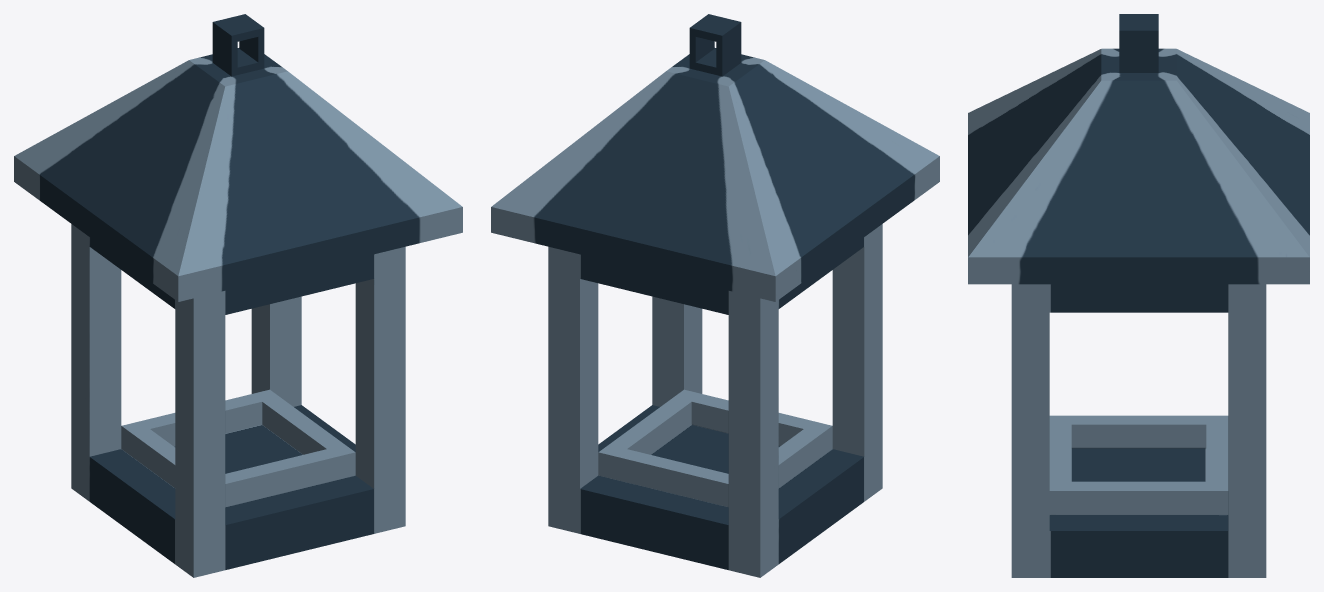
The model's file is lantern.fbx.
3 renders of one model, left to right at view 1: azimuth 30°, elevation 25°; view 2: azimuth 150°, elevation 25°; view 3: azimuth 270°, elevation 25°, orthographic. The views are drawn at different scales.
Visible parts, largest first — view 1: lantern1; view 2: lantern1; view 3: lantern1.
Boxes of the visible parts, box(x1,y1,x2,y2) form: lantern1: box(14, 14, 462, 577); lantern1: box(491, 14, 939, 577); lantern1: box(968, 14, 1309, 577).
Size of the model in its own units: 1.34 by 2.17 by 1.34.
